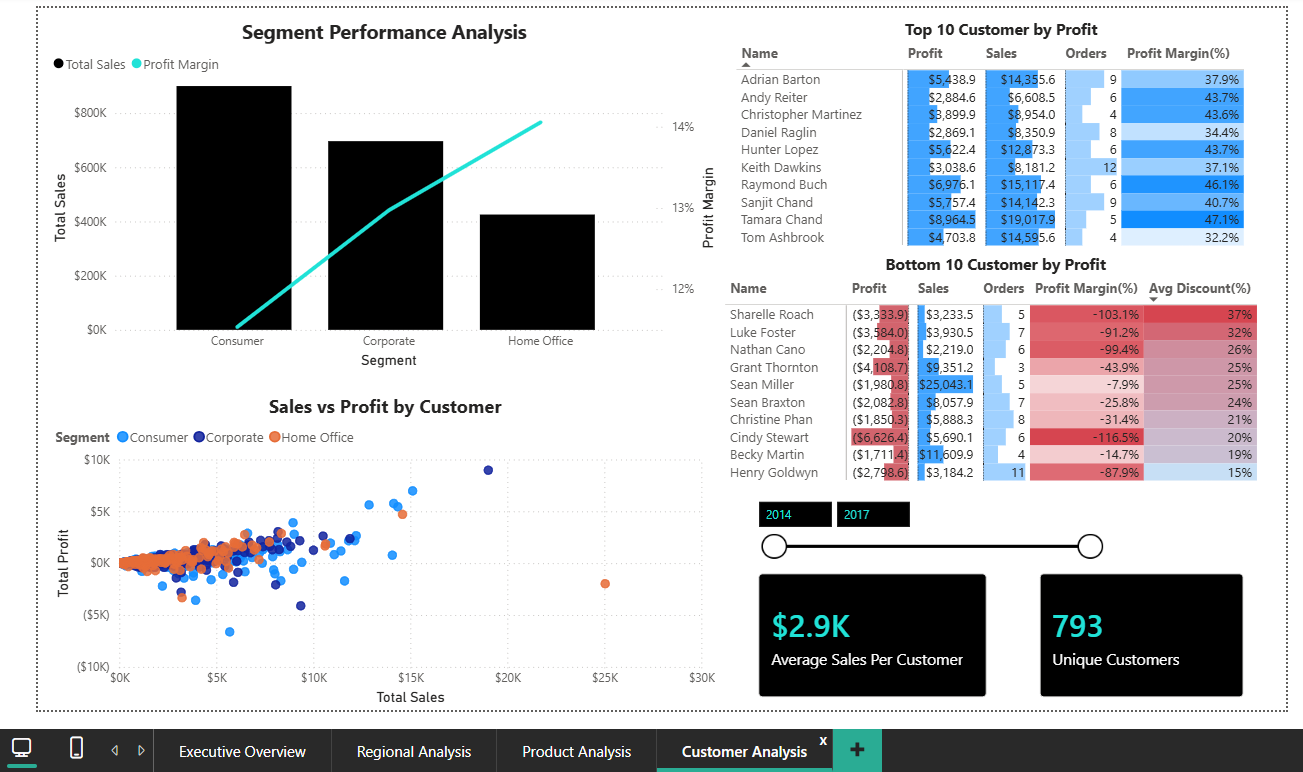

The dashboard page shown, as its layout file describes it:
{"tool":"powerbi","page":{"name":"Customer Analysis","canvas":[1280,720],"ordinal":3},"visuals":[{"type":"lineClusteredColumnComboChart","title":"Segment Performance Analysis","fields":{"Category":["Customers.Segment"],"Y":["MeasuresTable.Total Sales"],"Y2":["MeasuresTable.Profit Margin"]},"box":[10.1,10.1,689.6,363.6],"z":1000},{"type":"pivotTable","title":"Top 10 Customer by Profit","fields":{"Rows":["Customers.Customer Name"],"Values":["MeasuresTable.Total Profit","MeasuresTable.Total Sales","MeasuresTable.Total Orders","MeasuresTable.Profit Margin"]},"box":[711.3,10.1,552.6,240.9],"z":2000},{"type":"pivotTable","title":"Bottom 10 Customer by Profit","fields":{"Rows":["Customers.Customer Name"],"Values":["MeasuresTable.Total Profit","MeasuresTable.Total Sales","MeasuresTable.Total Orders","MeasuresTable.Profit Margin","MeasuresTable.Avg Discount"]},"box":[699.7,251,564.1,245.3],"z":3000},{"type":"scatterChart","title":"Sales vs Profit by Customer","fields":{"Category":["Customers.Customer Name"],"Series":["Customers.Segment"],"X":["MeasuresTable.Total Sales"],"Y":["MeasuresTable.Total Profit"]},"box":[13,395.3,686.8,324.6],"z":4000},{"type":"cardVisual","fields":{"Data":["MeasuresTable.Total Customers"]},"box":[1015.7,568.4,233.7,151.5],"z":6000},{"type":"cardVisual","fields":{"Data":["MeasuresTable.Average Sales Per Customer"]},"box":[727.2,568.4,258.3,151.5],"z":8000},{"type":"slicer","fields":{"Values":["Date.Year"]},"box":[727.2,496.3,373.7,80.8],"z":8002}]}

Visuals, with their boxes on the page's 1280x720 design canvas (x1, y1, x2, y2). These are canvas units, not pixel positions in the 1303x772 screenshot, which may show the page scaled, cropped or inside an application window:
"Segment Performance Analysis" lineClusteredColumnComboChart: {"left": 10, "top": 10, "right": 700, "bottom": 374}
"Top 10 Customer by Profit" pivotTable: {"left": 711, "top": 10, "right": 1264, "bottom": 251}
"Bottom 10 Customer by Profit" pivotTable: {"left": 700, "top": 251, "right": 1264, "bottom": 496}
"Sales vs Profit by Customer" scatterChart: {"left": 13, "top": 395, "right": 700, "bottom": 720}
cardVisual - MeasuresTable.Total Customers: {"left": 1016, "top": 568, "right": 1249, "bottom": 720}
cardVisual - MeasuresTable.Average Sales Per Customer: {"left": 727, "top": 568, "right": 986, "bottom": 720}
slicer - Date.Year: {"left": 727, "top": 496, "right": 1101, "bottom": 577}
